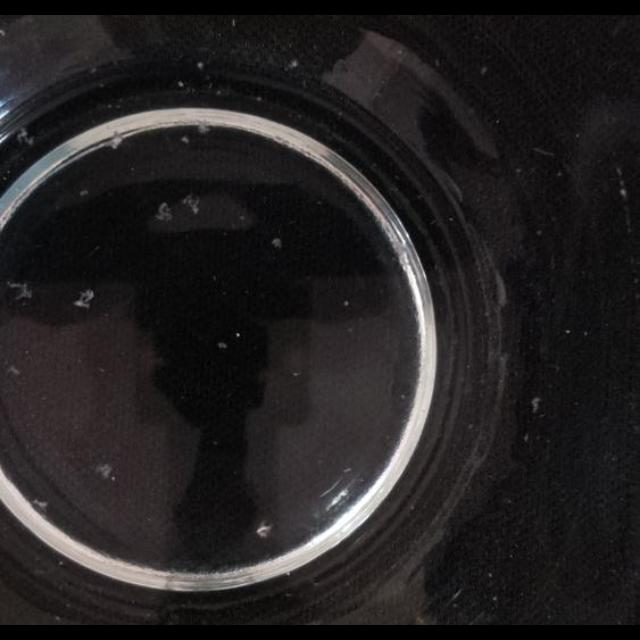Fibre: (152, 198, 174, 226), (73, 288, 97, 310), (182, 194, 202, 216), (10, 282, 34, 300), (16, 128, 34, 148), (96, 462, 114, 480), (32, 498, 48, 512), (110, 136, 124, 150), (196, 124, 212, 136)
microbeads: (530, 397, 540, 413), (270, 238, 282, 250), (287, 58, 299, 70), (7, 366, 20, 376), (181, 134, 191, 144), (217, 341, 227, 349), (80, 189, 90, 197), (480, 66, 488, 76), (197, 61, 205, 70), (176, 80, 184, 88), (344, 300, 351, 308), (565, 329, 571, 335)
